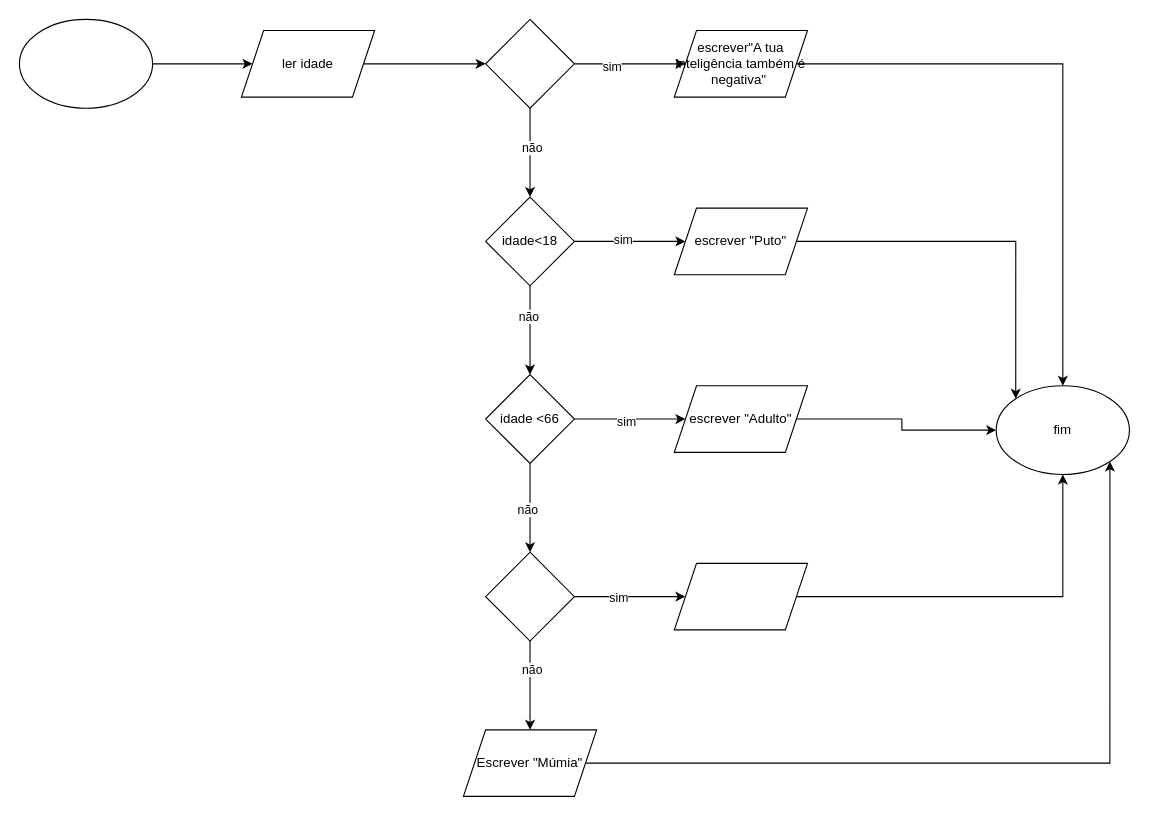
This 1149x816 diagram has some shape labels left out. Each missing label, with the box of its shape:
escrever "Velhino": (673, 562, 808, 630)
idade <151: (485, 551, 574, 641)
idade<0: (485, 18, 574, 108)
inicio: (18, 18, 153, 108)
